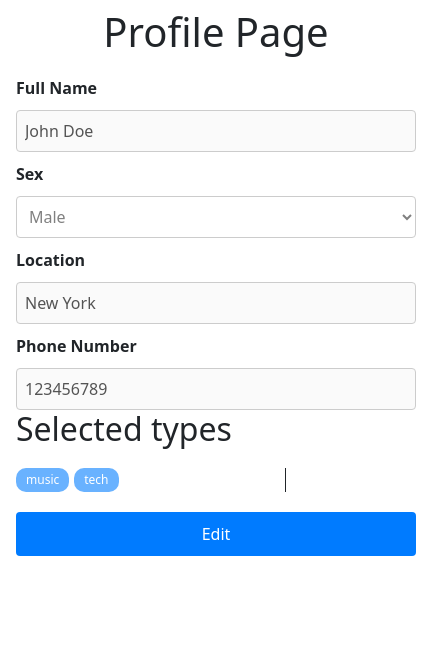
Test: ProfilePage › clears selected types through TypesComponent
Click the button "Edit".
click(216, 534)  # box [16,512,416,556]
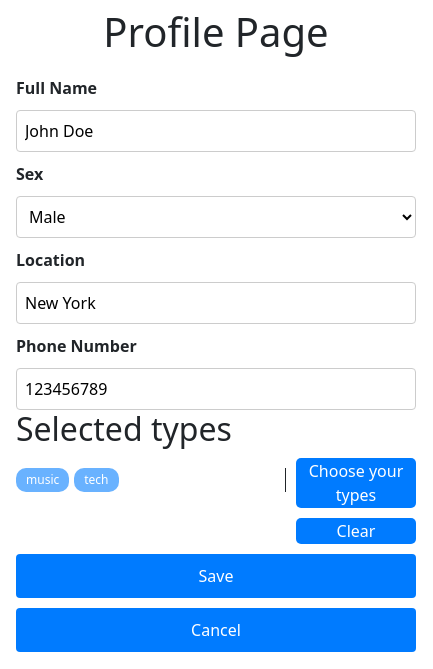
Click the button "Clear".
click(356, 531)  # box [296,518,416,544]
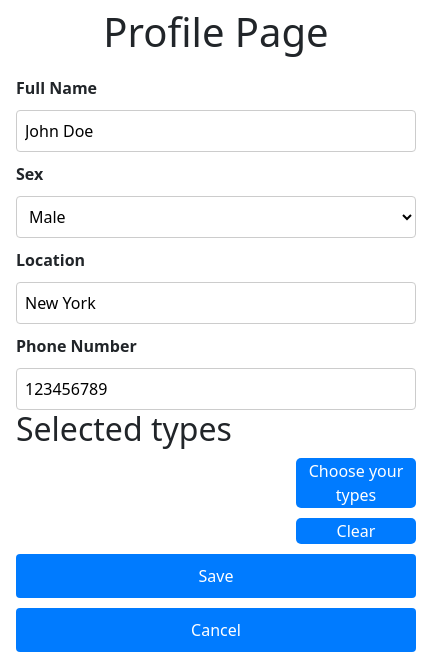
Result: the text "music" is gone
